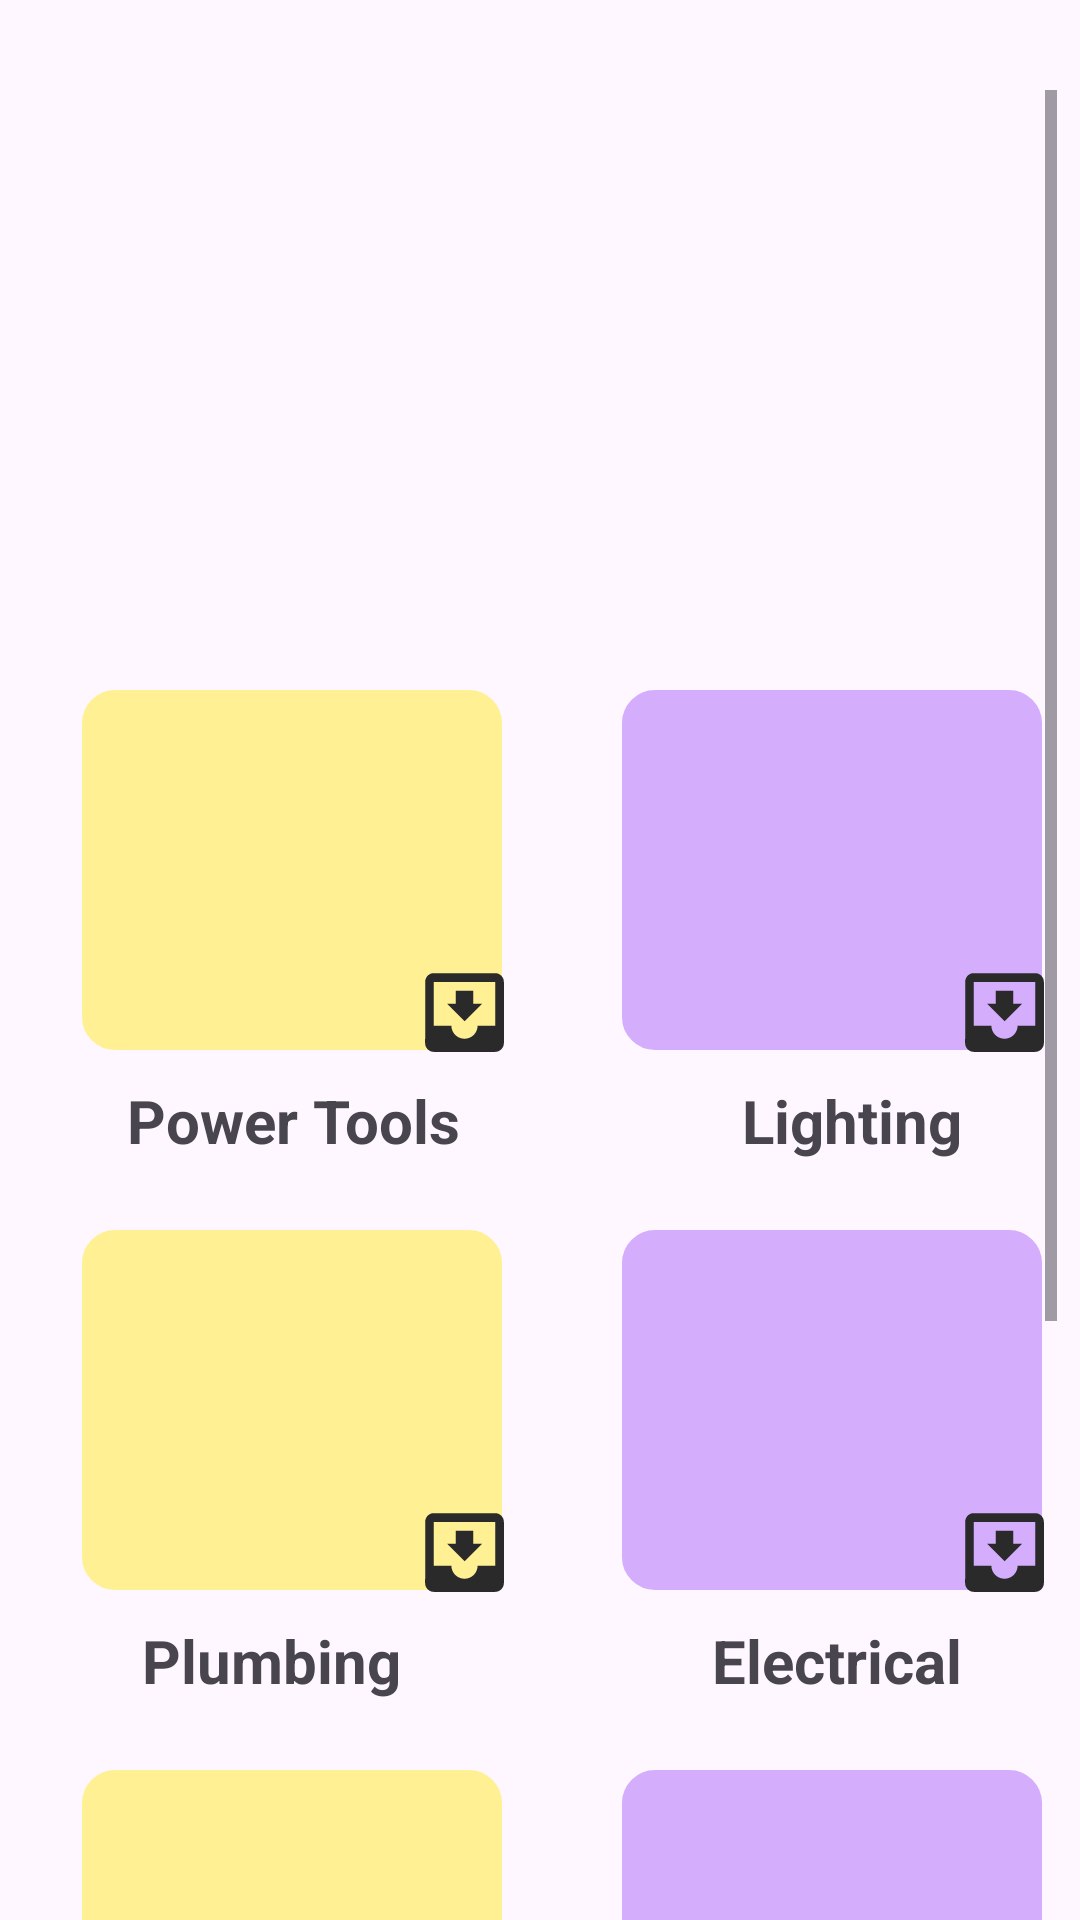

Point at icon controls on the screen. Image size 1080 × 1920, points as (x=x, y=y).
move to inbox: (x=464, y=1012), (x=1004, y=1012), (x=464, y=1552), (x=1004, y=1552)
